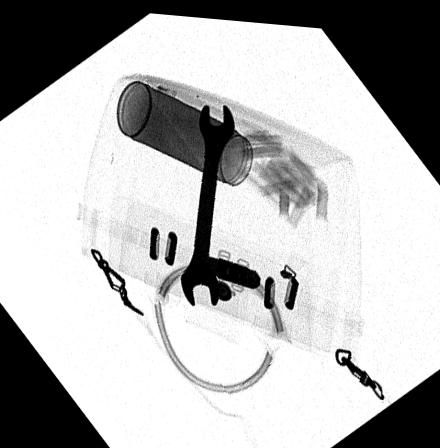Wrench: (180, 97, 235, 303)
